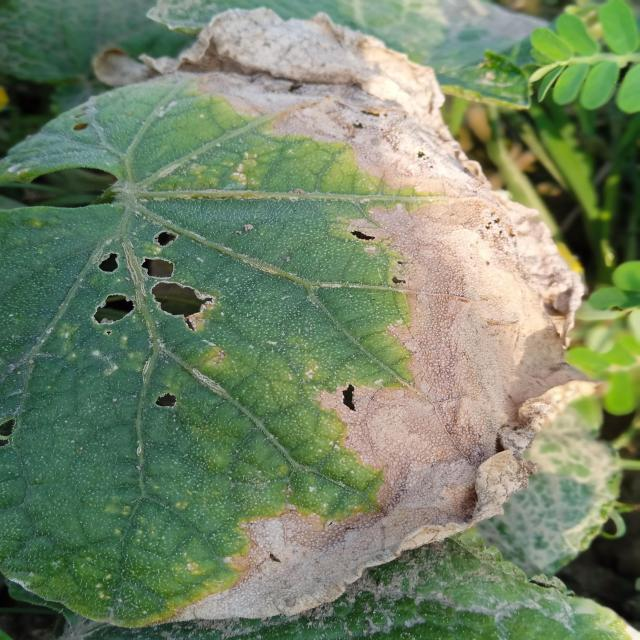cucumber_gummy: (2, 4, 612, 631)
